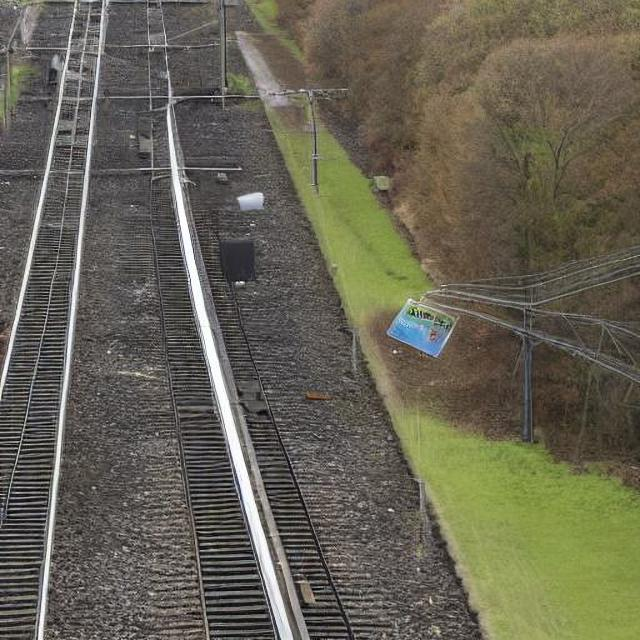balloon: (218, 233, 254, 282)
